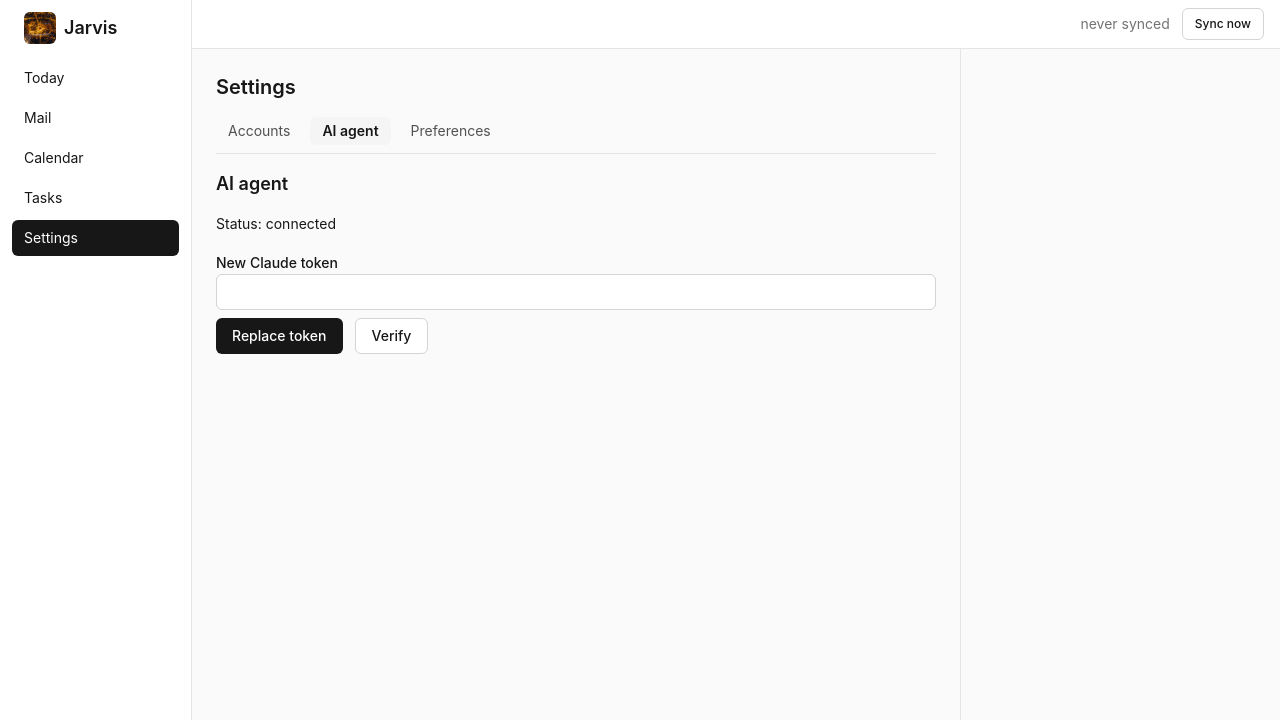
settings agent › Verify checks the stored token and shows failures
Click the button "Verify".
click(391, 336)  # box [354,318,428,354]
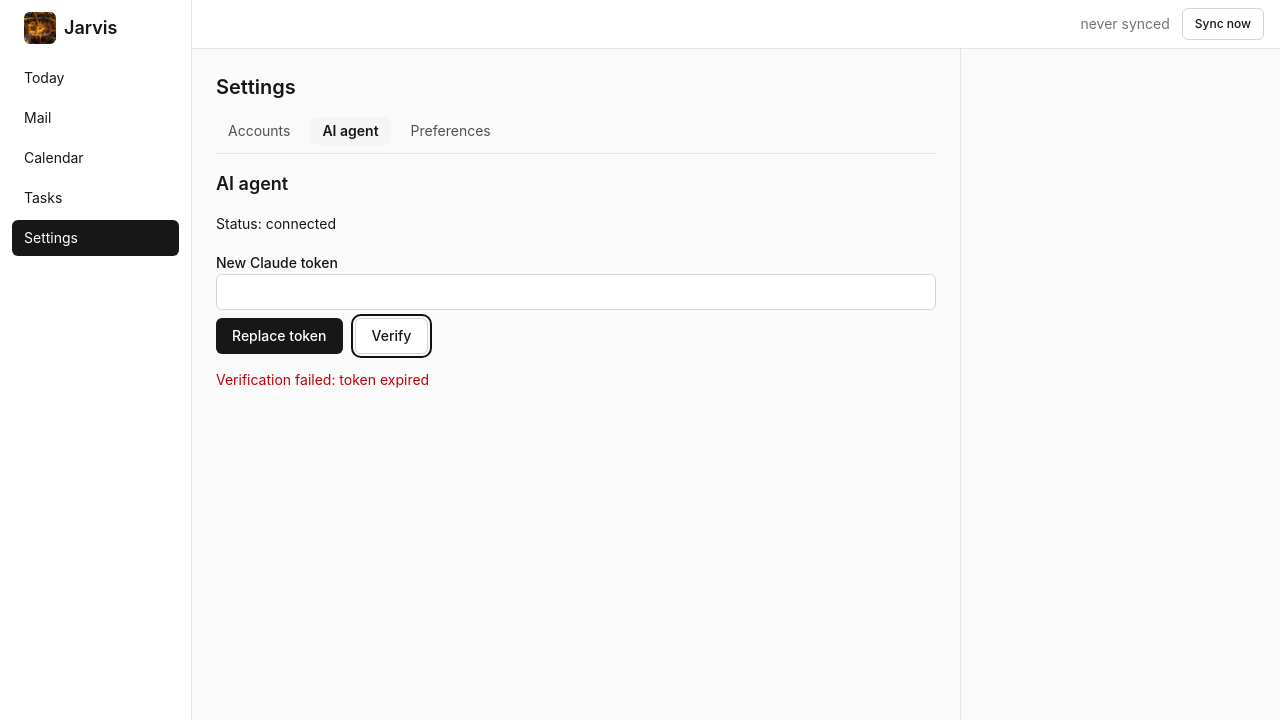
Expected: the message shows "token expired", [216,371,429,388]
